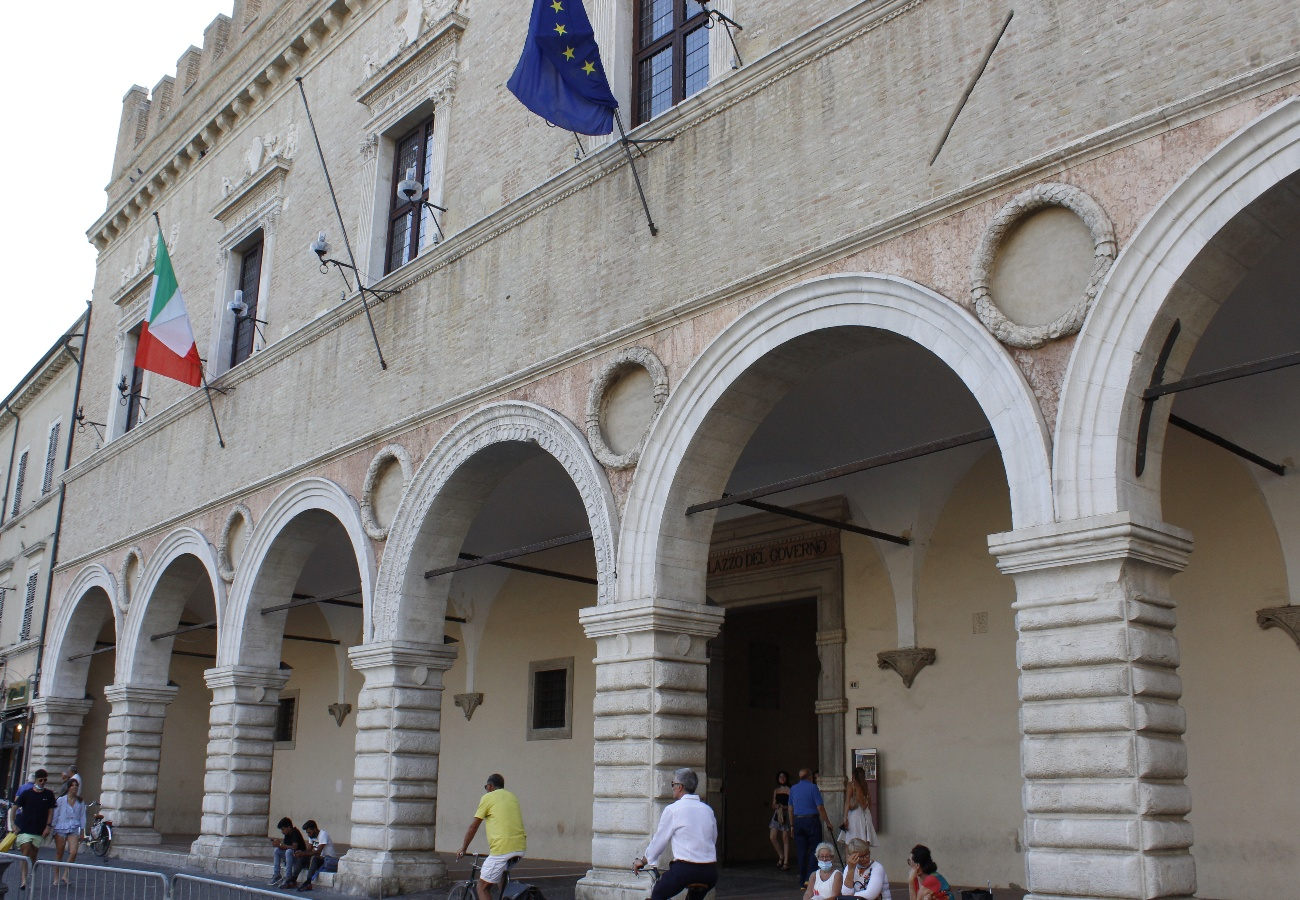Palazzo Ducale: (48, 1, 1300, 900)
